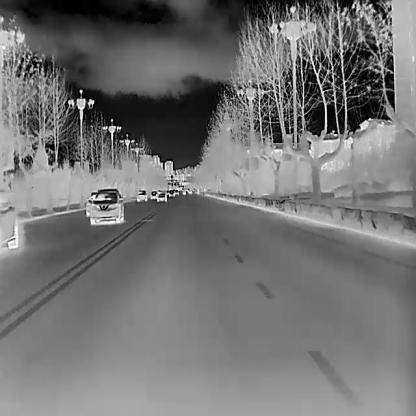car: (88, 187, 123, 224), (0, 190, 18, 252), (136, 190, 147, 202), (156, 193, 166, 201), (150, 190, 157, 199), (169, 190, 175, 198)
